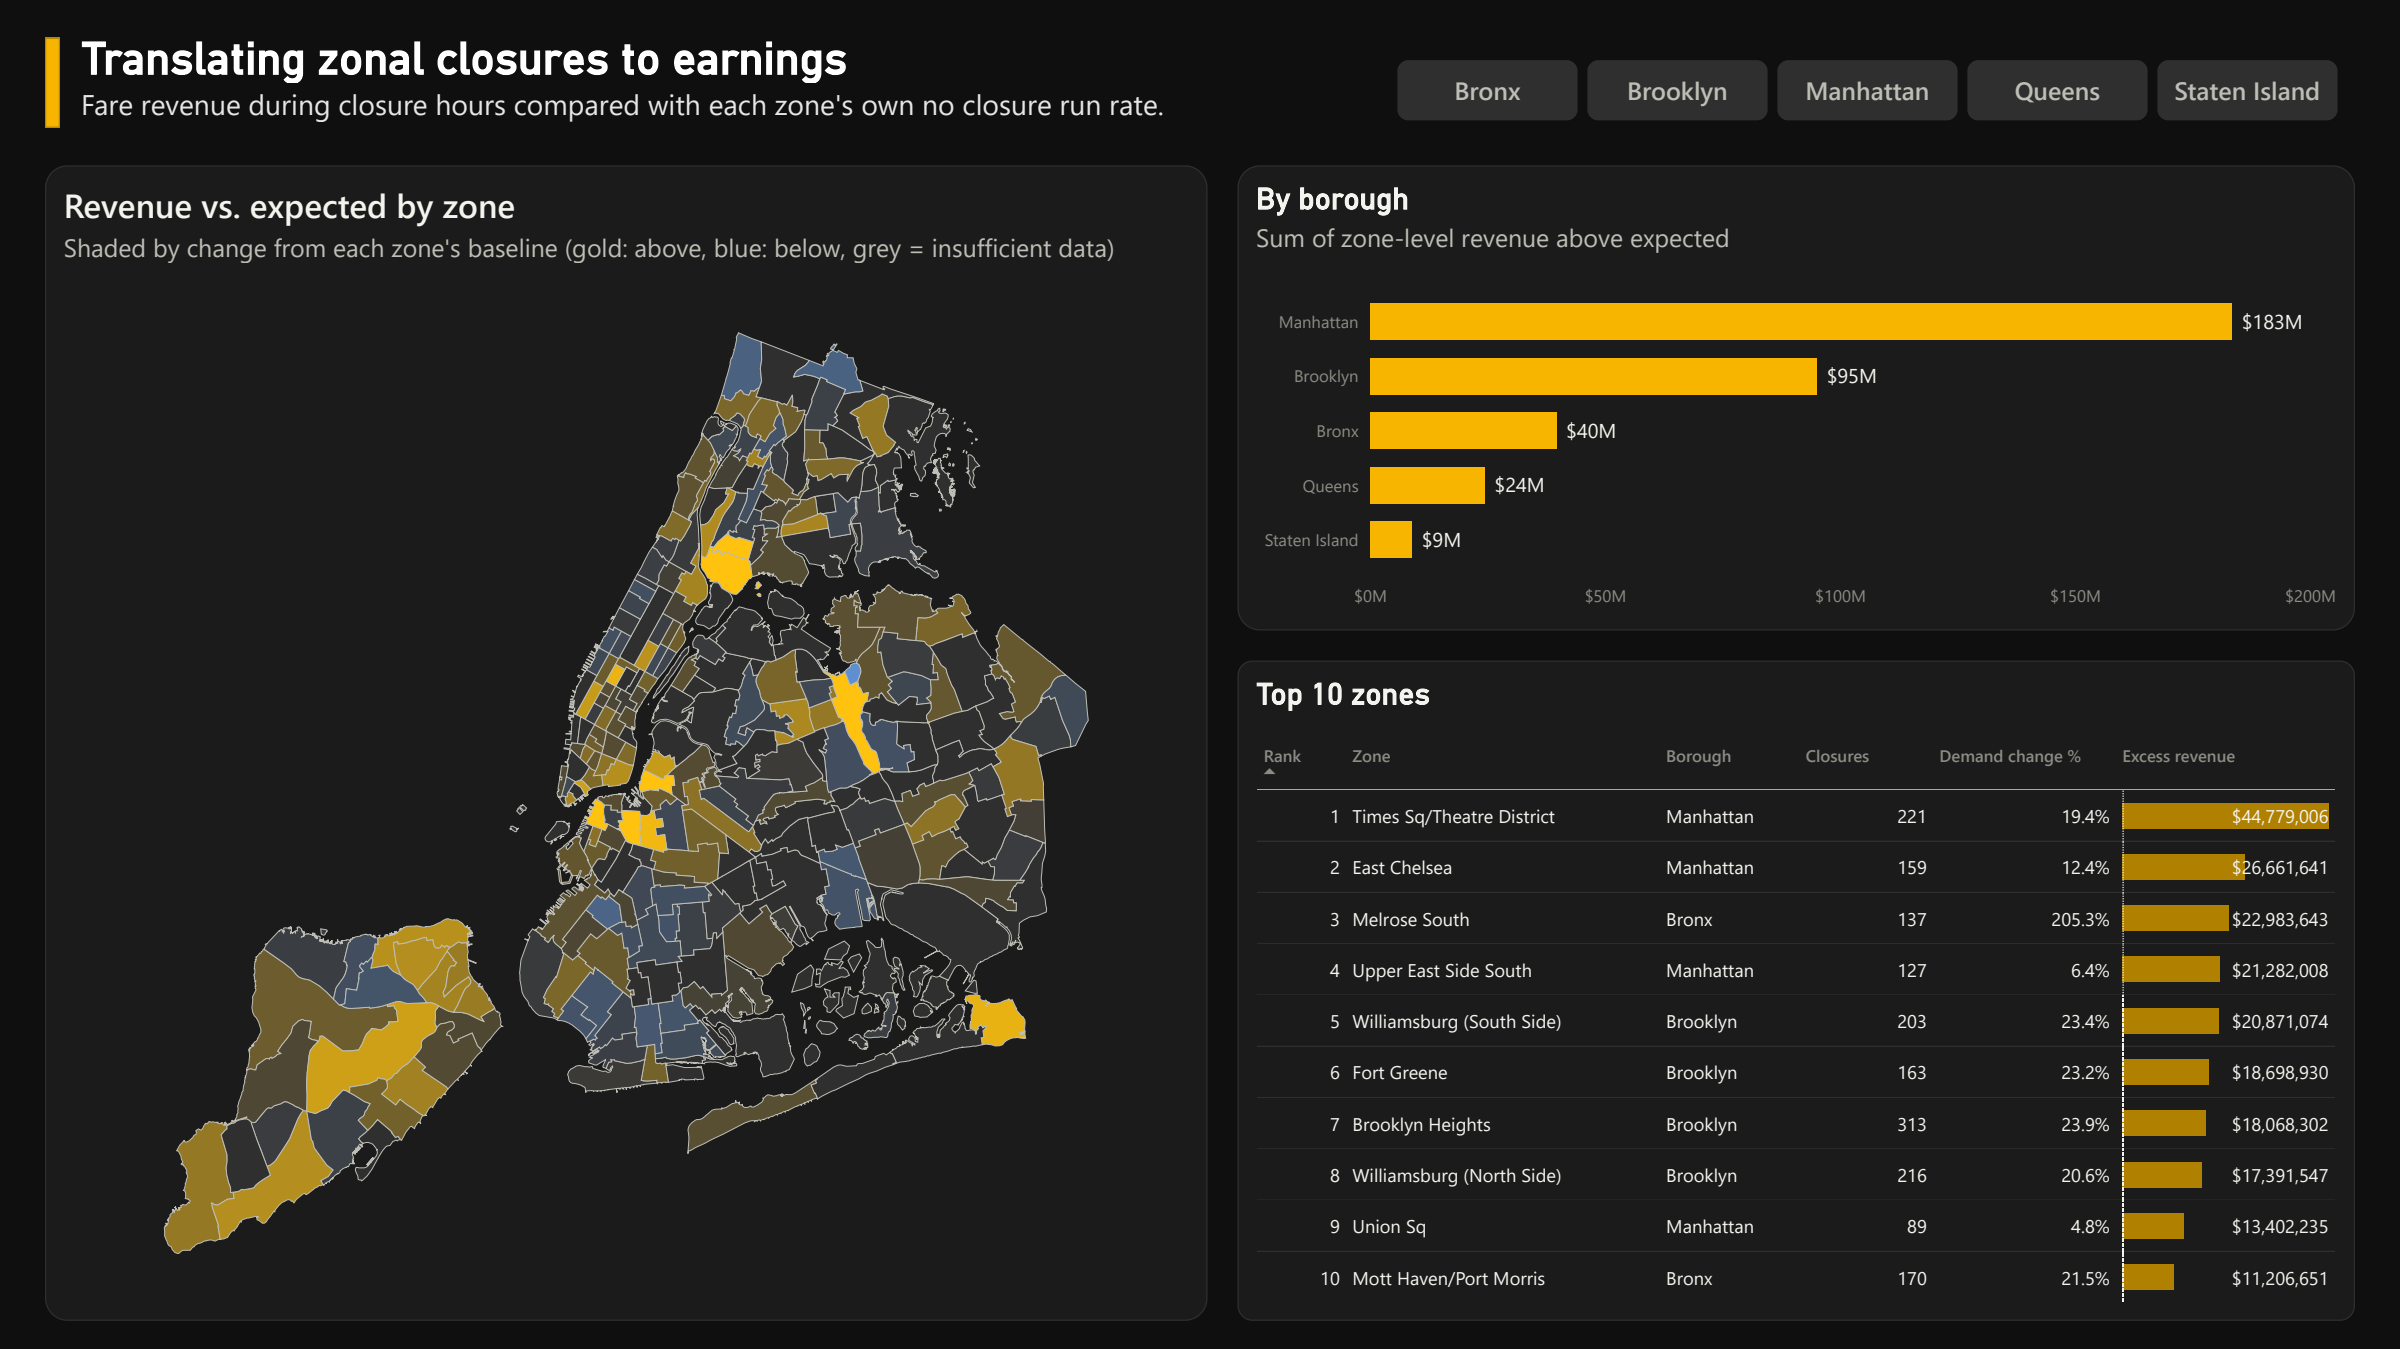

The page's visual inventory and layout, read from the dashboard file:
{"tool":"powerbi","page":{"name":"Page 3","canvas":[1920,1080],"ordinal":2},"visuals":[{"type":"shape","box":[36,30,12,72],"z":0},{"type":"textbox","title":"Translating zonal closures to earnings","box":[65,25,1037.5,72],"z":1000},{"type":"advancedSlicerVisual","fields":{"Values":["dim_borough.Borough"]},"box":[1104,36,780,72],"z":2000},{"type":"shapeMap","title":"Revenue vs. expected by zone","fields":{"Category":["06_zone_map.Zone key"],"Value":["Sum(06_zone_map.Revenue vs expected % (map))"]},"box":[36,132,930,924],"z":3000},{"type":"clusteredBarChart","title":"By borough","fields":{"Category":["07_borough_summary.Borough"],"Y":["Sum(07_borough_summary.Revenue above expected $)"]},"box":[990,132,894,372],"z":4000},{"type":"tableEx","title":"Top 10 zones","fields":{"Values":["06_zone_map.Rank","06_zone_map.Zone","06_zone_map.Borough","06_zone_map.Closures","Sum(06_zone_map.Demand change %)","06_zone_map.Excess revenue"]},"box":[990,528,894,528],"z":5000}]}

Visuals, with their boxes in screenshot pixels (x1, y1, x2, y2), scaled from the page's 1920x1080 canvas onto the 2400x1349 screenshot:
shape: x1=45, y1=37, x2=60, y2=127
"Translating zonal closures to earnings" textbox: x1=81, y1=31, x2=1378, y2=121
advancedSlicerVisual - dim_borough.Borough: x1=1380, y1=45, x2=2355, y2=135
"Revenue vs. expected by zone" shapeMap: x1=45, y1=165, x2=1208, y2=1319
"By borough" clusteredBarChart: x1=1238, y1=165, x2=2355, y2=630
"Top 10 zones" tableEx: x1=1238, y1=660, x2=2355, y2=1319
